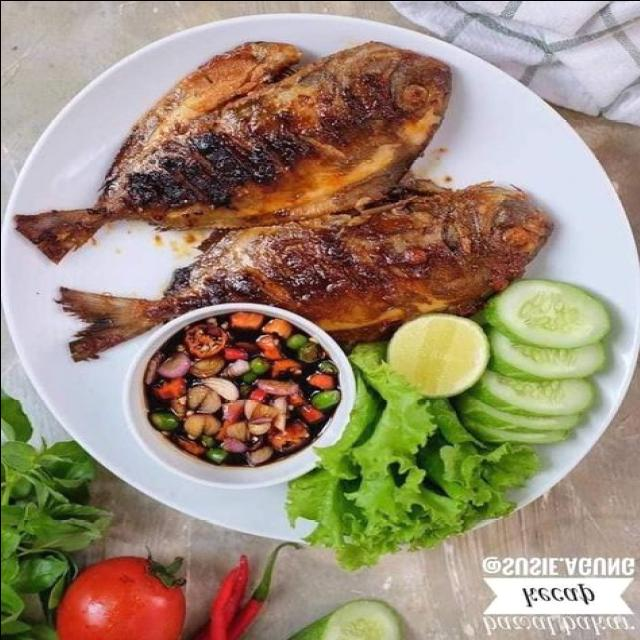ikan bakar: (12, 36, 452, 264), (61, 181, 548, 359)
